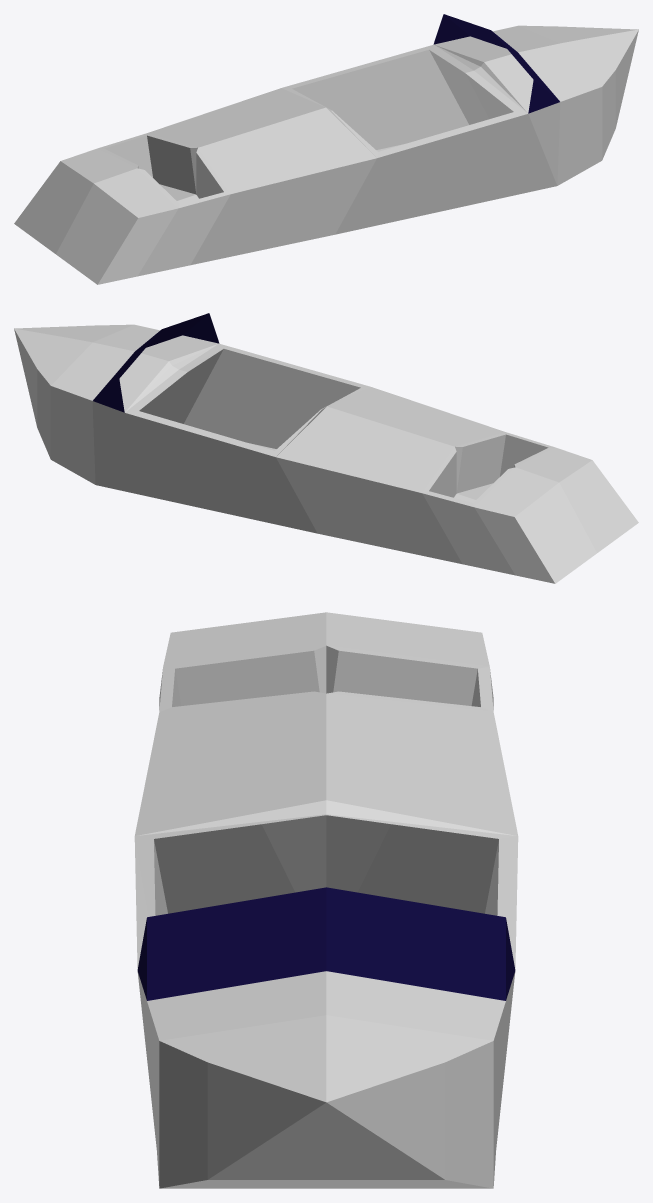
File: Boaty McBoatface.fbx
3 views of the same model, one above another, from view 1: azimuth 30°, elevation 25°; view 2: azimuth 150°, elevation 25°; view 3: azimuth 270°, elevation 25° (orthographic). The views are drawn at different scales.
Parts seen in each view (by area): view 1: Cube; view 2: Cube; view 3: Cube.
Boxes of the visible parts, x1,y1,x2,y2 form: Cube: (14, 14, 638, 284); Cube: (14, 313, 638, 583); Cube: (134, 612, 518, 1188).
Size of the model in its own units: 16.12 by 3.47 by 4.59.
